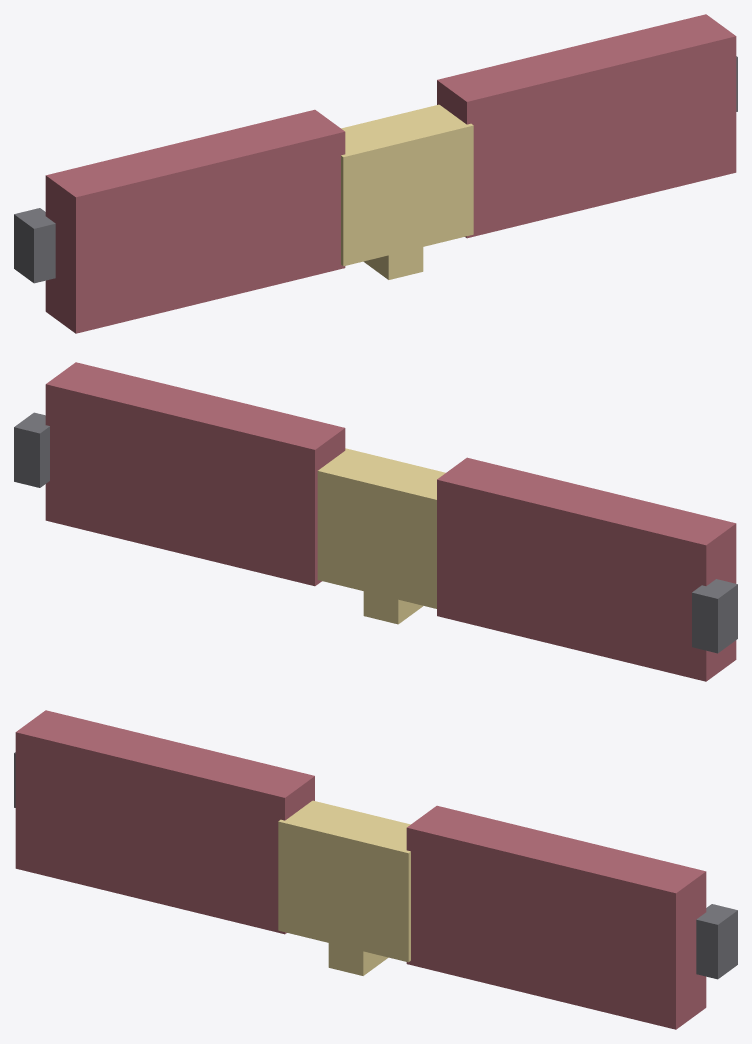
The model's file is eyeMask.glb.
3 views of the same model, one above another, from view 1: azimuth 30°, elevation 25°; view 2: azimuth 150°, elevation 25°; view 3: azimuth 330°, elevation 25° (orthographic).
Parts seen in each view (by area): view 1: eyeMask; view 2: eyeMask; view 3: eyeMask.
Part boxes in pixels (bbox=[...]): eyeMask: bbox=[14, 14, 737, 333]; eyeMask: bbox=[14, 362, 737, 681]; eyeMask: bbox=[14, 710, 737, 1029].
Size of the model in its own units: 0.162 by 0.035 by 0.017.
